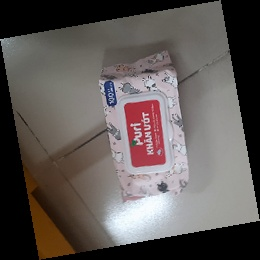Puri hong: (100, 49, 191, 206)
